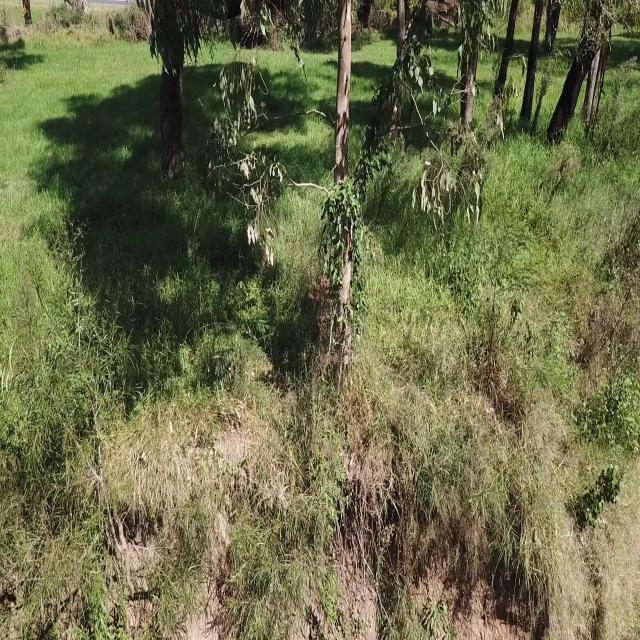Mysore-Thorn-Weed: (205, 266, 271, 390)
